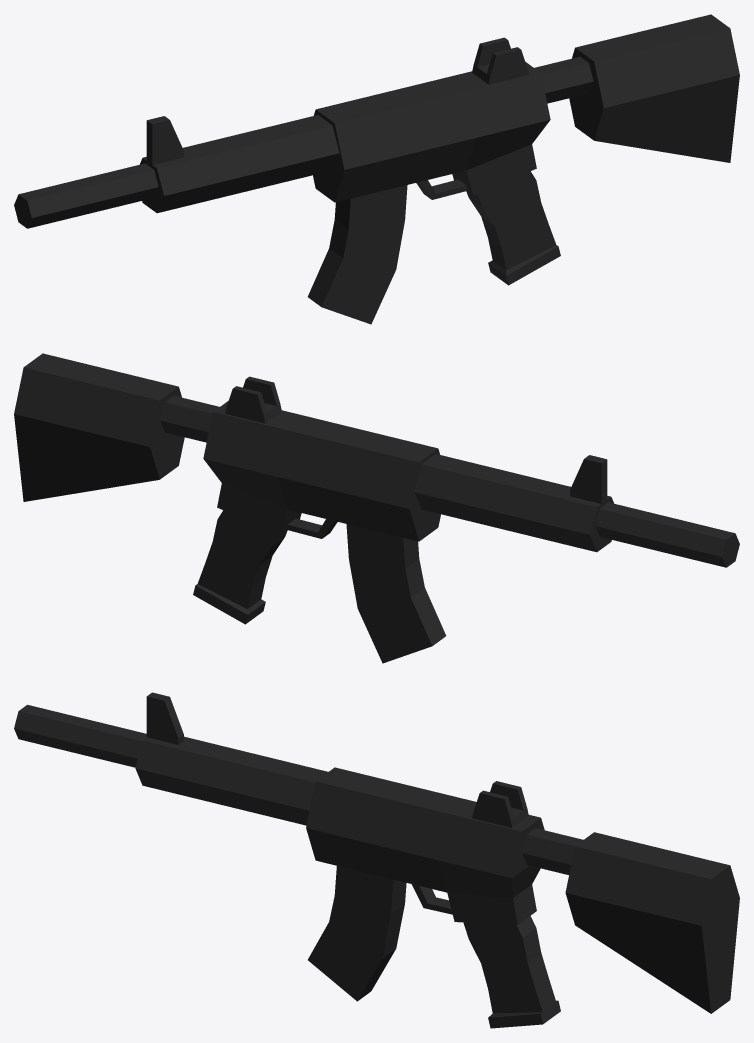
The model's file is AssaultRifle.fbx.
The picture shows the model from 3 angles, top to bottom: view 1: azimuth 30°, elevation 25°; view 2: azimuth 150°, elevation 25°; view 3: azimuth 330°, elevation 25°; orthographic projection.
Visible parts, largest first — view 1: AssaultRifle; view 2: AssaultRifle; view 3: AssaultRifle.
Boxes of the visible parts, left/top/right/bottom form: AssaultRifle: left=14, top=14, right=739, bottom=324; AssaultRifle: left=14, top=353, right=739, bottom=663; AssaultRifle: left=14, top=692, right=739, bottom=1028.
Bounding box in the file's own units: 1.13 × 0.3847 × 0.1071.
